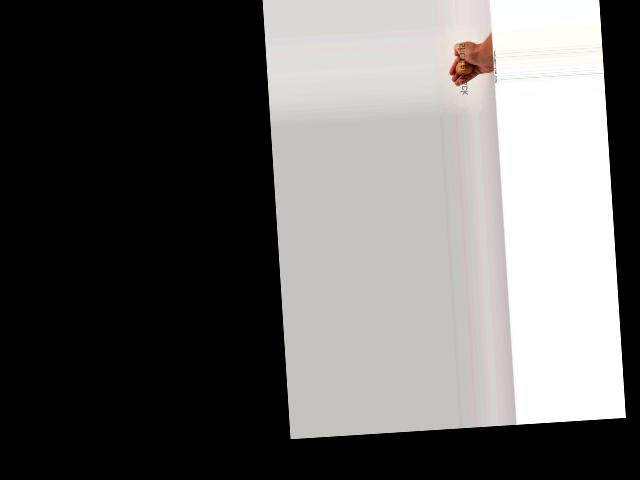egg: (455, 59, 474, 75)
